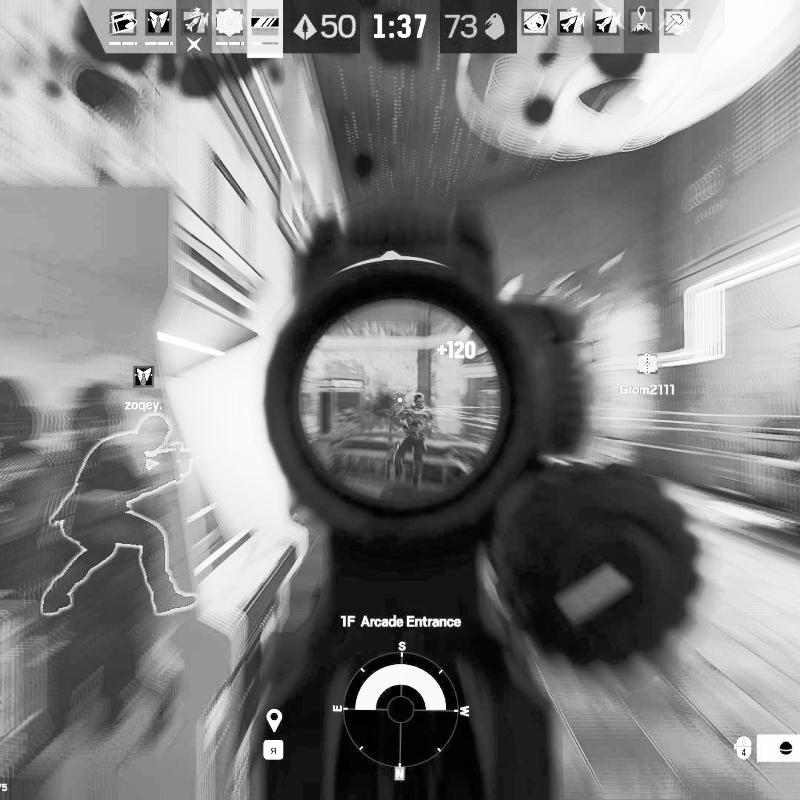Character: (392, 393, 436, 491)
Friend_label: (618, 351, 677, 397), (123, 364, 166, 413)
